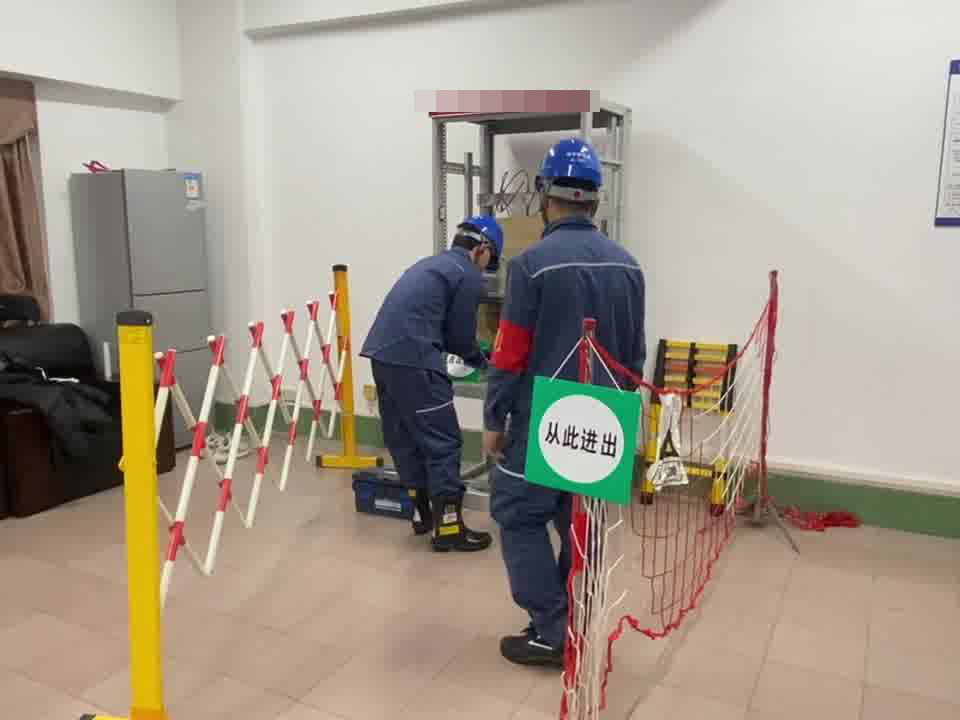badge: (491, 318, 533, 376)
downsuit: (486, 478, 595, 628), (372, 374, 463, 502)
halt: (534, 137, 607, 221), (456, 213, 505, 272)
hand: (483, 430, 509, 460)
intosign: (531, 384, 634, 498)
noear: (476, 241, 490, 262)
person: (480, 135, 657, 666), (362, 209, 506, 537)
shoe: (406, 495, 493, 552)
upsuit: (491, 219, 652, 385), (364, 247, 483, 365)
